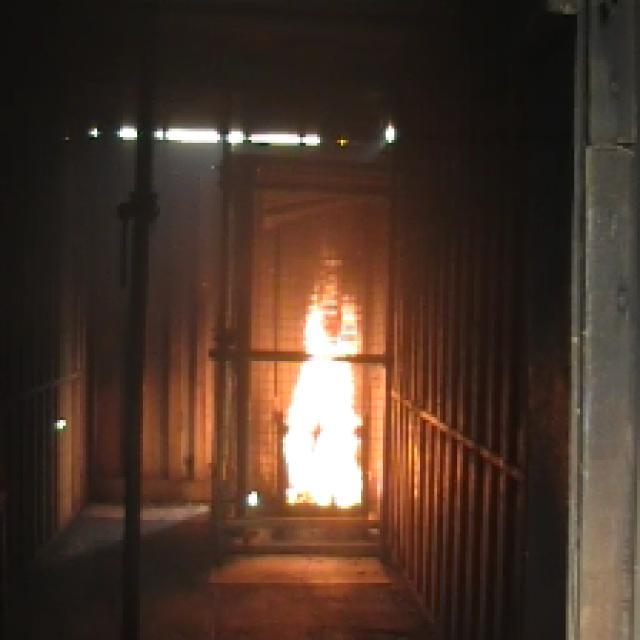Fire: (288, 272, 371, 492)
